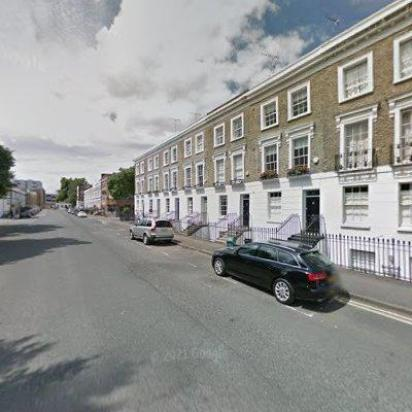stationary-car-onstreet: (210, 238, 340, 312), (127, 217, 176, 246), (78, 210, 86, 218)
